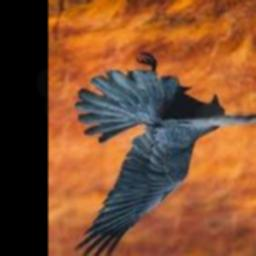Crow: (73, 54, 256, 256)
